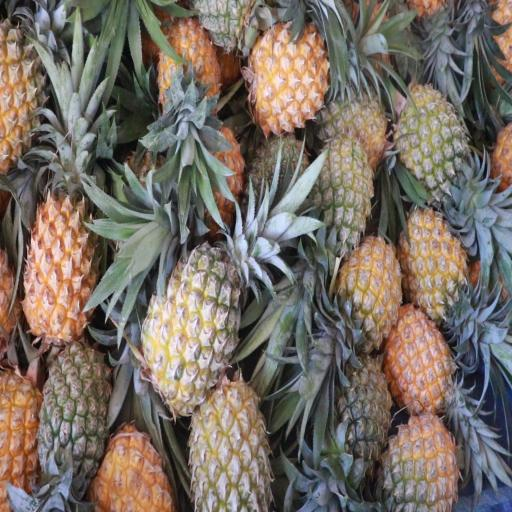------------------------------: (144, 246, 240, 404), (192, 381, 270, 512)
Pineapple - v8 v1: (26, 192, 96, 345), (0, 22, 51, 172), (247, 29, 324, 127), (402, 211, 467, 320), (388, 314, 454, 416), (155, 24, 220, 124), (98, 428, 174, 512), (338, 237, 398, 343), (0, 367, 42, 507)
